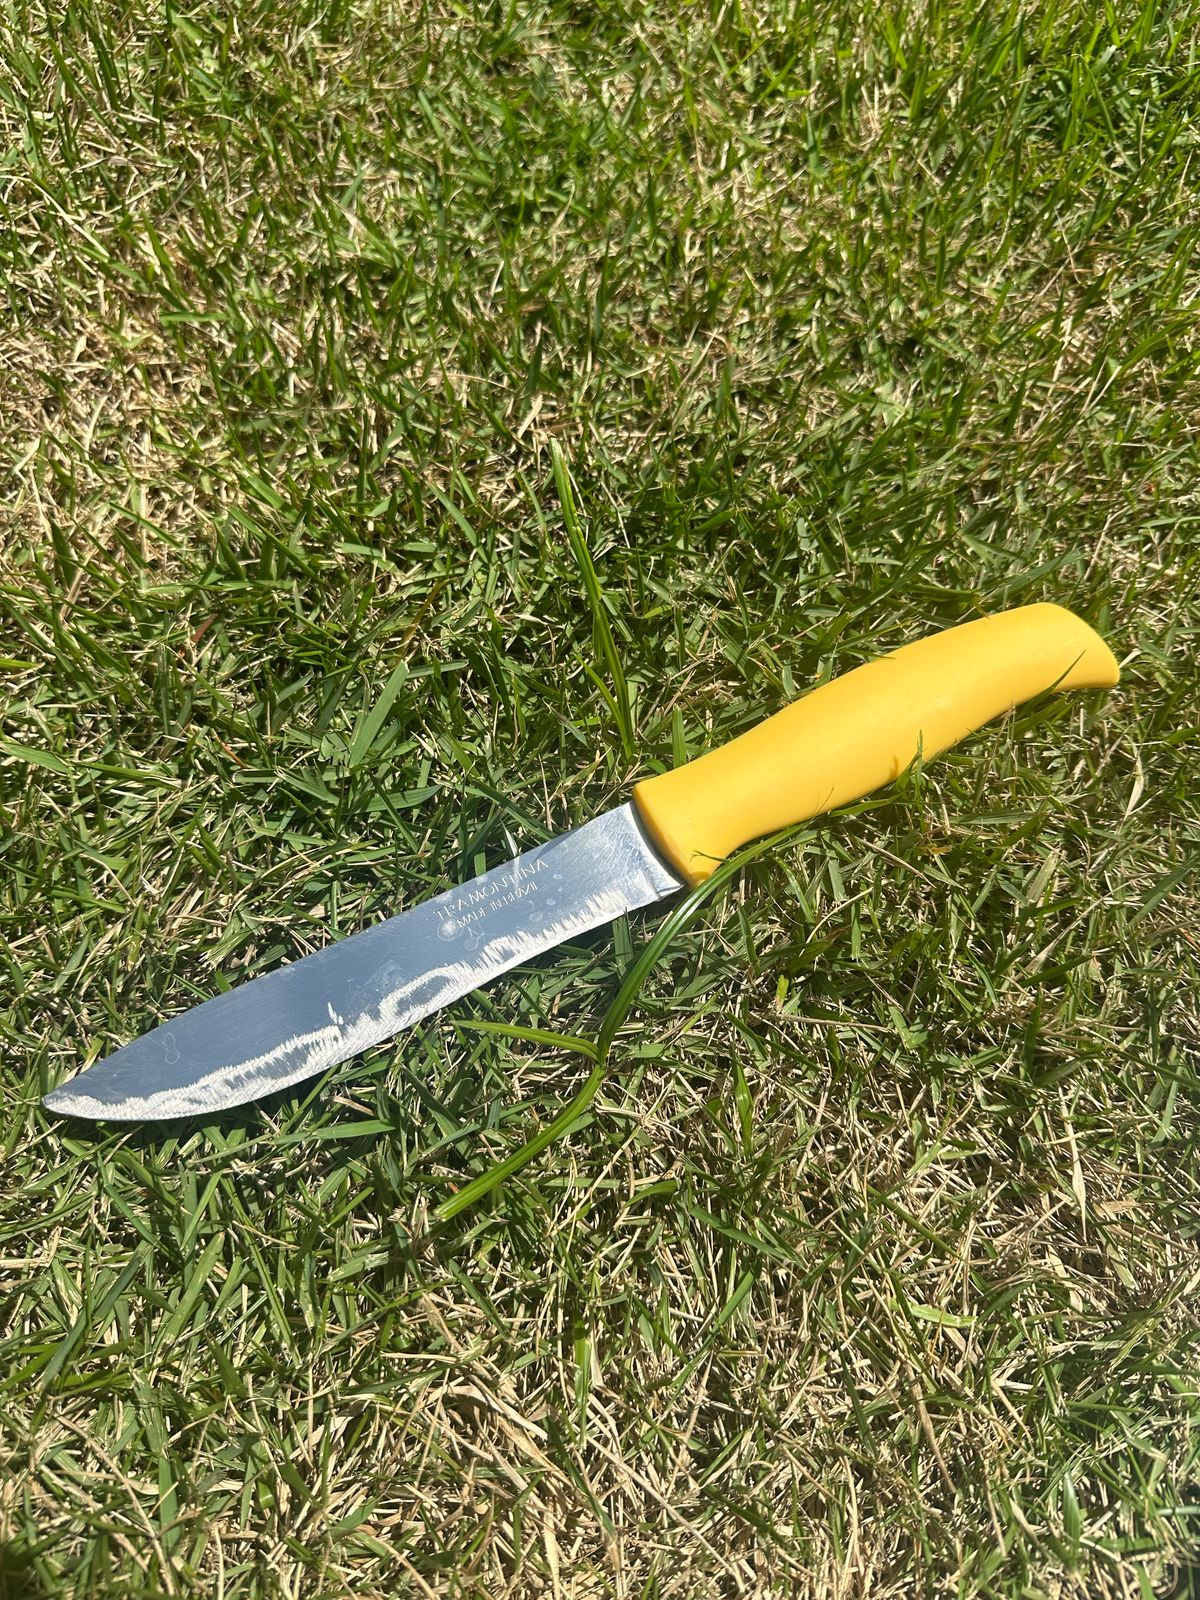faca: (30, 548, 1162, 1150)
